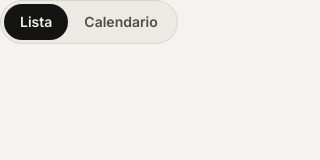
Test: Segmentado › cambia de opción y avisa
Click the button "Calendario".
click(121, 22)  # box top-left (68, 4), bottom-right (174, 40)
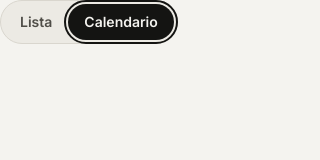
Expected: the button "Calendario" is pressed, top-left (68, 4), bottom-right (174, 40)
